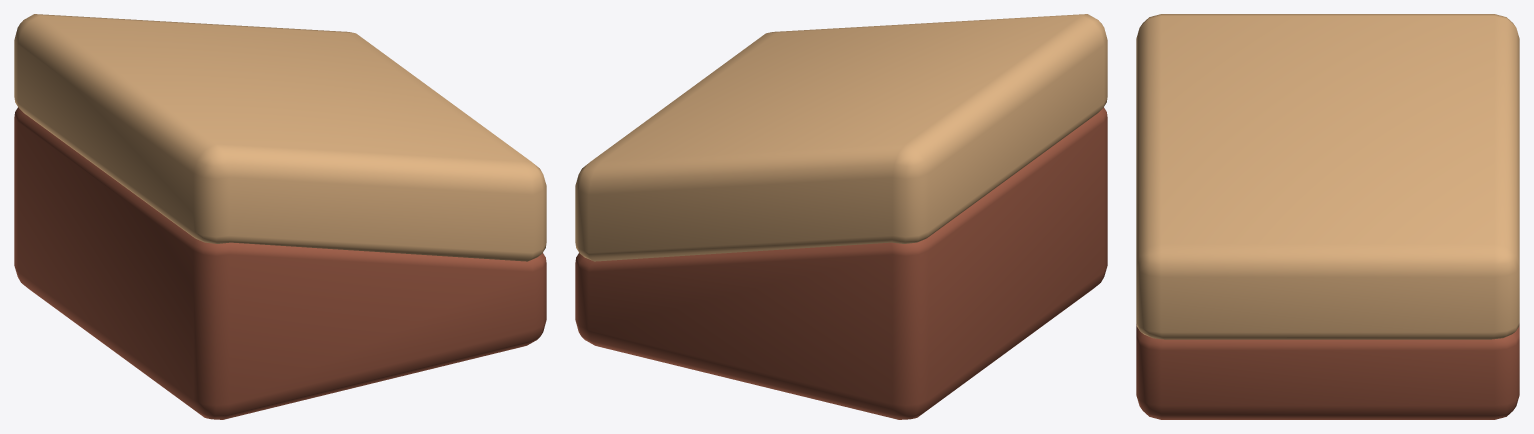
File: tileSlopeLowMedium_desert.glb
3 renders of one model, left to right at view 1: azimuth 30°, elevation 25°; view 2: azimuth 150°, elevation 25°; view 3: azimuth 270°, elevation 25°, orthographic. The views are drawn at different scales.
Visible parts, largest first — view 1: tileSlopeLowMedium_desert; view 2: tileSlopeLowMedium_desert; view 3: tileSlopeLowMedium_desert.
Part boxes in pixels (<box>): tileSlopeLowMedium_desert: <box>14,14,546,419</box>; tileSlopeLowMedium_desert: <box>575,14,1107,419</box>; tileSlopeLowMedium_desert: <box>1136,14,1519,419</box>.
Size of the model in its own units: 0.6 by 0.45 by 0.6.
